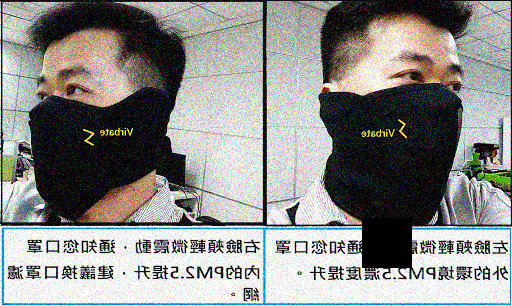with_mask: (328, 44, 464, 205), (32, 61, 133, 205)
